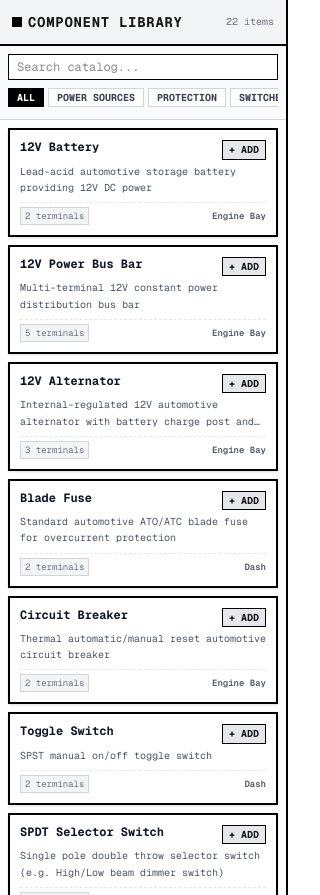
Test: Component Palette & Property Inspector UI › Palette › filters components based on search input
Type "relay" into the field with placeholder "Search catalog...".
click(143, 67); type("relay")  # box [8,54,278,80]
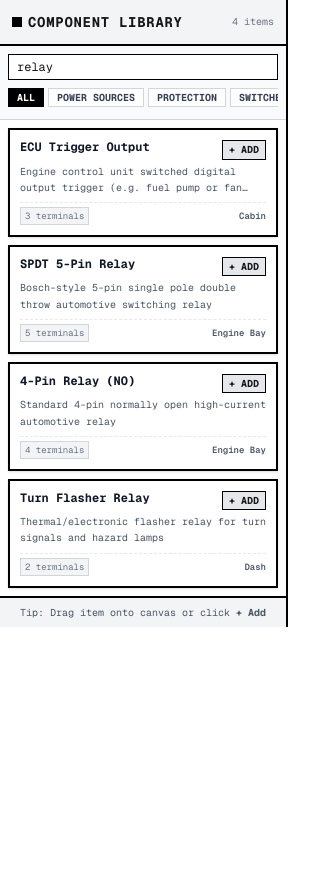
Expected: the text "SPDT 5-Pin Relay" is shown, [20,257,135,272]
Expected: the text "12V Battery" is gone
